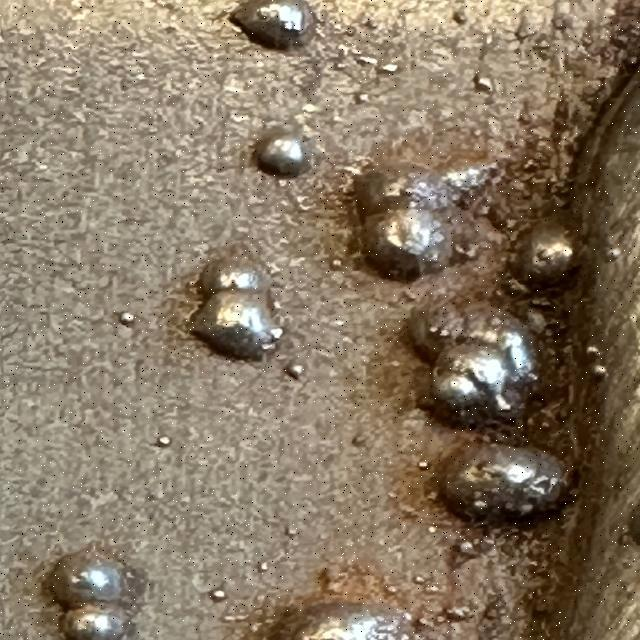Spatters: (230, 1, 321, 55), (254, 131, 308, 179)
